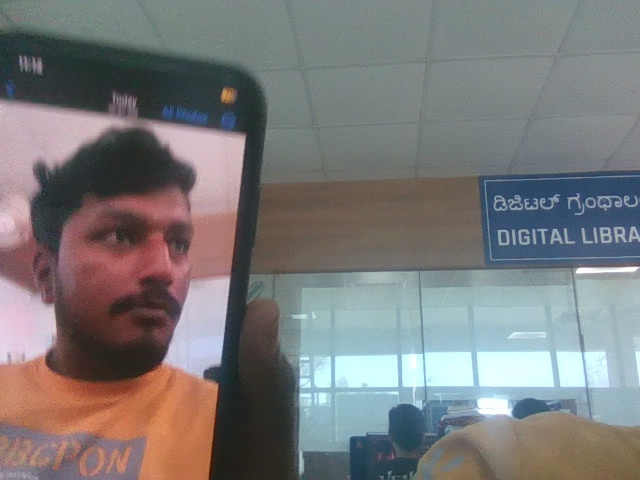fake: (38, 110, 221, 370)
